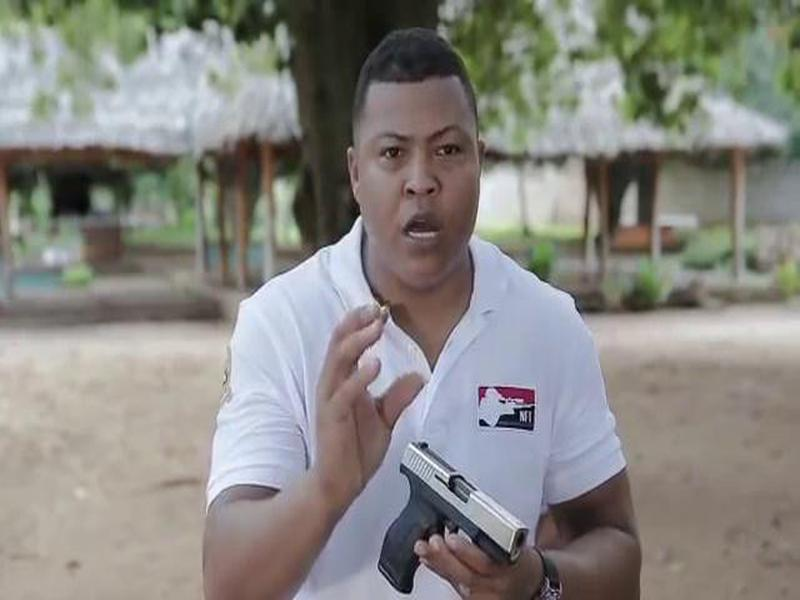Pistola: (374, 436, 544, 595)
